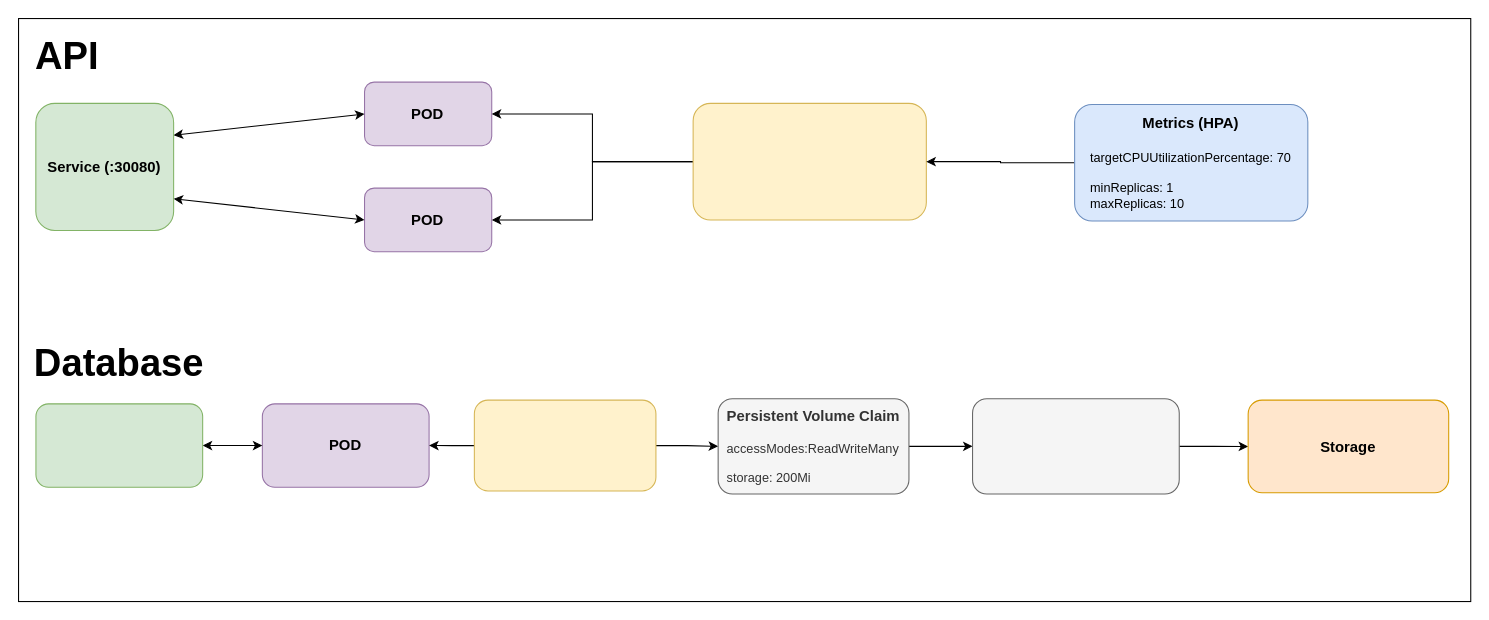
The diagram is 1489 pixels wide and 620 high, and some of its shapes have lost their labels. Here are the shapes that lost their labels. From the top down, the centre of each, then its label:
point 809,161: Replica set (Deployment :8080)
point 119,445: Service (:5432)
point 564,445: Replica set (Deployement)
point 1075,446: Persistent Volume accessModes:ReadWriteMany storage: 200Mi
